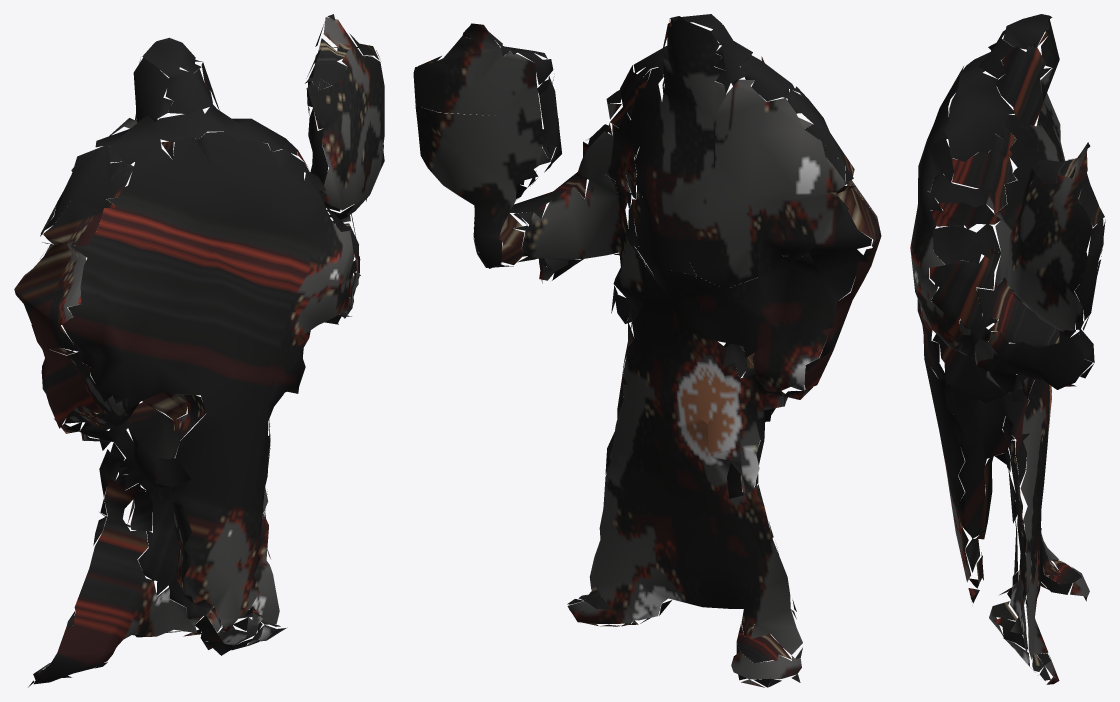
The picture shows the model from 3 angles, left to right: view 1: azimuth 30°, elevation 25°; view 2: azimuth 150°, elevation 25°; view 3: azimuth 270°, elevation 25°; orthographic projection.
Visible parts, largest first — view 1: body.002; view 2: body.002; view 3: body.002.
Part boxes in pixels (<box>): body.002: <box>14,14,384,687</box>; body.002: <box>413,14,881,687</box>; body.002: <box>910,14,1105,684</box>.
Bounding box in the file's own units: 1.36 × 2.01 × 0.5686.
Materials: 1 (1 with a texture image).
